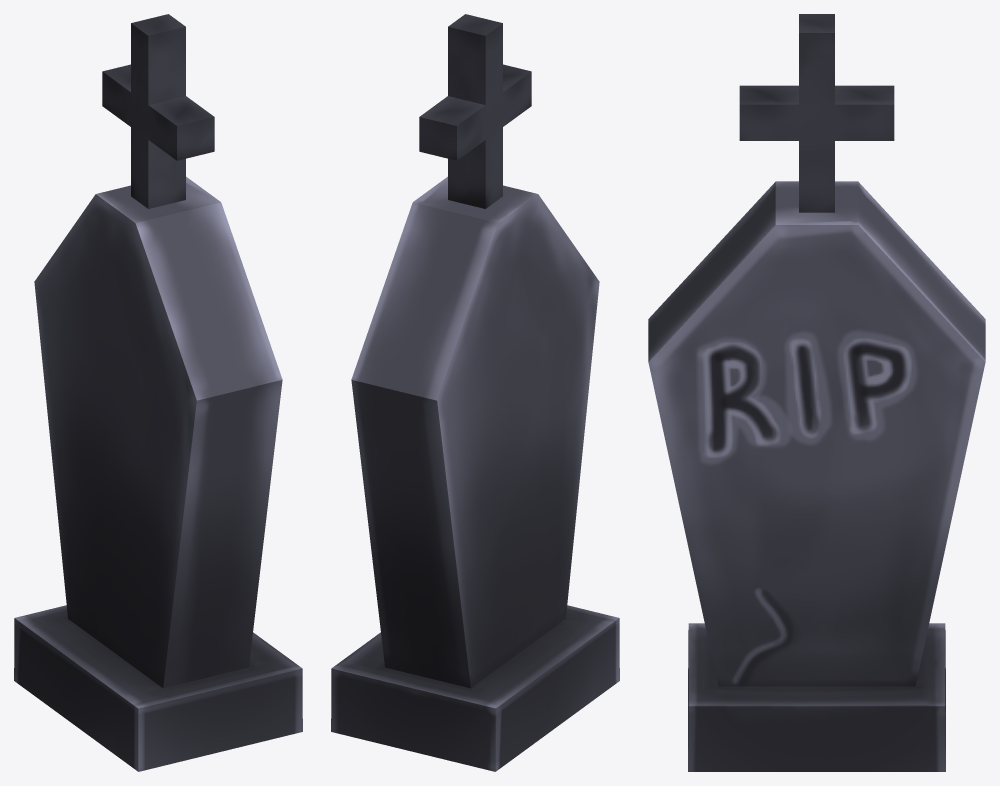
File: Gravestone_2.fbx
3 views of the same model, side by side, from view 1: azimuth 30°, elevation 25°; view 2: azimuth 150°, elevation 25°; view 3: azimuth 270°, elevation 25° (orthographic). The views are drawn at different scales.
Visible parts, largest first — view 1: Gravestone_Cross; view 2: Gravestone_Cross; view 3: Gravestone_Cross.
Part boxes in pixels (x1,y1,x2,y2): Gravestone_Cross: (14, 14, 302, 771); Gravestone_Cross: (331, 14, 619, 771); Gravestone_Cross: (648, 14, 985, 771).
Bounding box in the file's own units: 19.9 × 78.81 × 34.06.
1 material, 1 textured.
